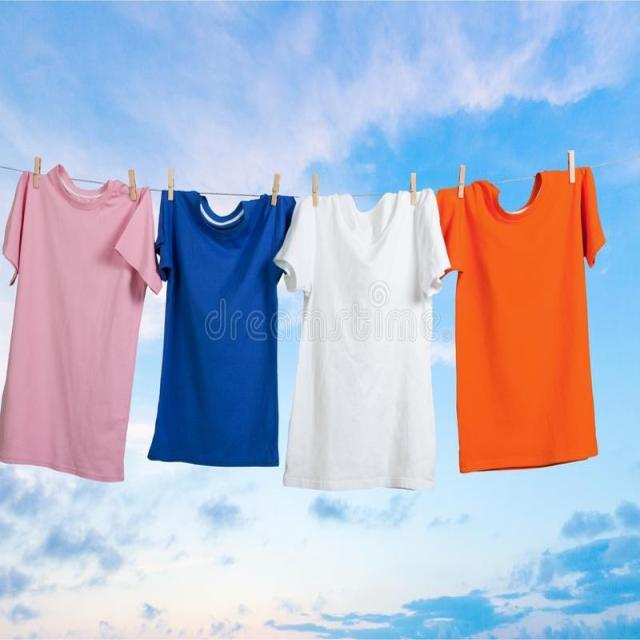clothes: (0, 162, 153, 495), (443, 155, 597, 479), (294, 176, 440, 491), (158, 177, 294, 483)
